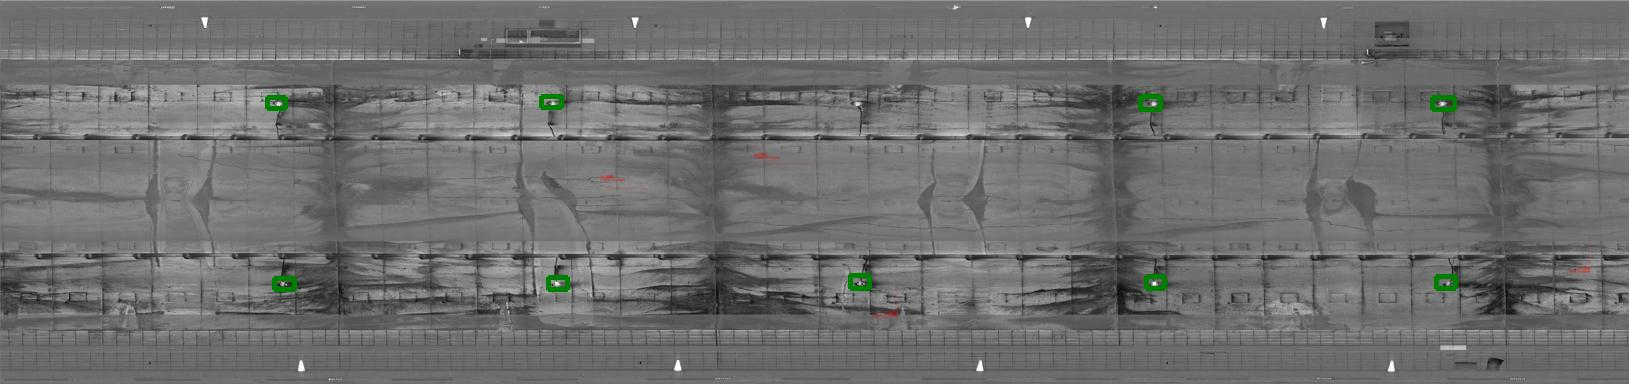light: (849, 95, 867, 111), (541, 95, 562, 109), (849, 277, 871, 290), (1438, 276, 1458, 290), (544, 278, 567, 290), (1144, 97, 1163, 110), (273, 278, 292, 291), (270, 95, 287, 109), (1144, 278, 1163, 289), (1435, 98, 1449, 110)
